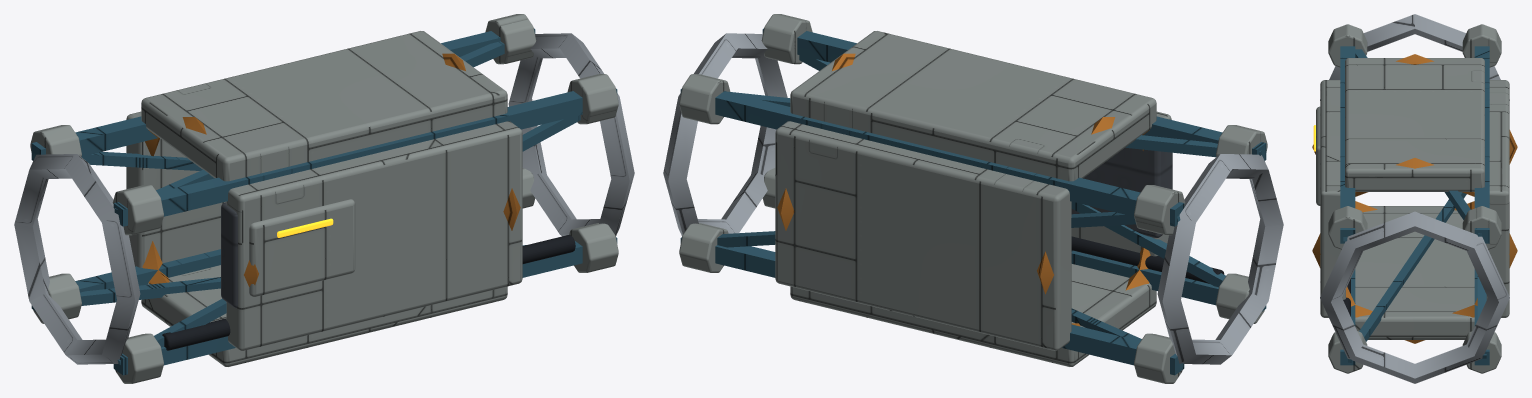
File: telescoping_sleeve_lod2.glb
The picture shows the model from 3 angles, left to right: view 1: azimuth 30°, elevation 25°; view 2: azimuth 150°, elevation 25°; view 3: azimuth 270°, elevation 25°; orthographic projection. The views are drawn at different scales.
Visible parts, largest first — view 1: LOD2_Hull, LOD2_Armor, LOD2_BrushedMetal, LOD2_MechanicalDark, LOD2_Livery, LOD2_Mechanical; view 2: LOD2_Hull, LOD2_Armor, LOD2_BrushedMetal, LOD2_Mechanical, LOD2_Livery, LOD2_MechanicalDark; view 3: LOD2_Hull, LOD2_BrushedMetal, LOD2_Armor, LOD2_Livery.
Boxes of the visible parts, left/top/right/bottom form: LOD2_Hull: left=30, top=14, right=618, bottom=383; LOD2_Armor: left=31, top=28, right=617, bottom=375; LOD2_BrushedMetal: left=14, top=33, right=634, bottom=364; LOD2_MechanicalDark: left=162, top=235, right=575, bottom=350; LOD2_Livery: left=142, top=53, right=520, bottom=287; LOD2_Mechanical: left=221, top=202, right=237, bottom=307; LOD2_Hull: left=679, top=14, right=1267, bottom=383; LOD2_Armor: left=680, top=28, right=1266, bottom=375; LOD2_BrushedMetal: left=663, top=33, right=1283, bottom=364; LOD2_Mechanical: left=1071, top=147, right=1172, bottom=237; LOD2_Livery: left=777, top=53, right=1150, bottom=326; LOD2_MechanicalDark: left=1071, top=236, right=1224, bottom=283; LOD2_Hull: left=1316, top=24, right=1509, bottom=373; LOD2_BrushedMetal: left=1320, top=14, right=1509, bottom=383; LOD2_Armor: left=1340, top=46, right=1489, bottom=365; LOD2_Livery: left=1312, top=54, right=1517, bottom=343.
Size of the model in its own units: 4.19 by 1.76 by 1.76.
7 materials, 6 textured.
